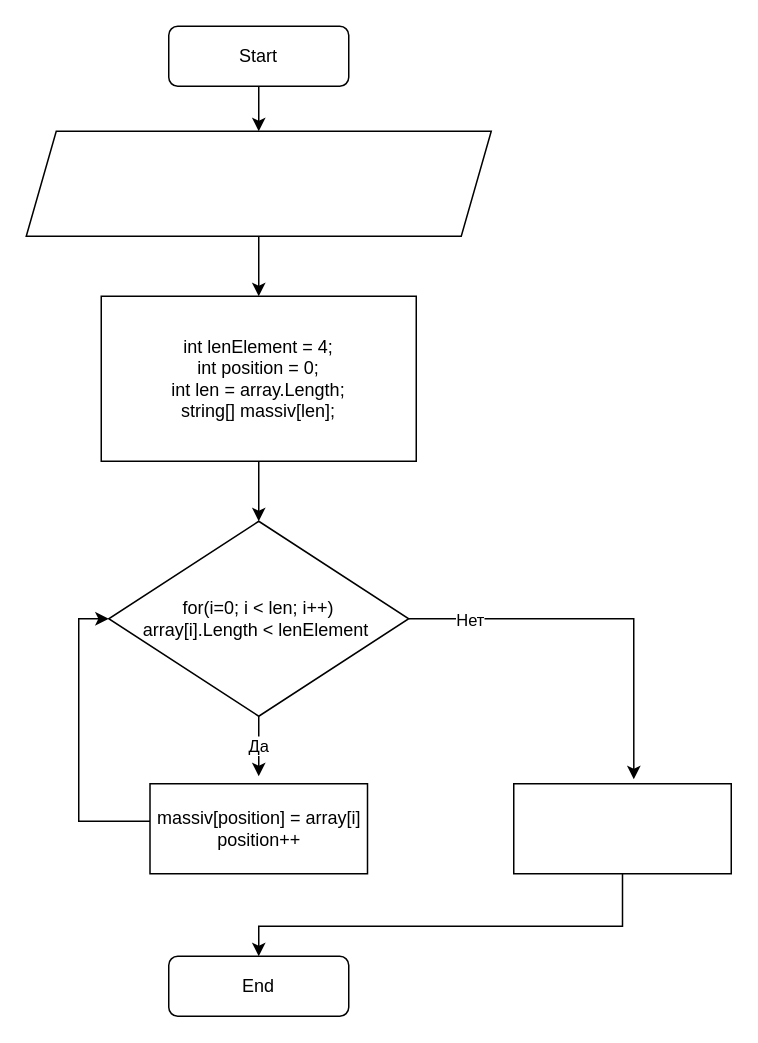
The diagram is 758 pixels wide and 1043 high, and some of its shapes have lost their labels. The box of each missing label's shape, as (x1, y1, x2, y2) in pixels:
massiv[position]: (512, 782, 731, 874)
number = "ввод количества элементов массива с клавиатуры" string[] array[number]: (25, 130, 491, 236)
